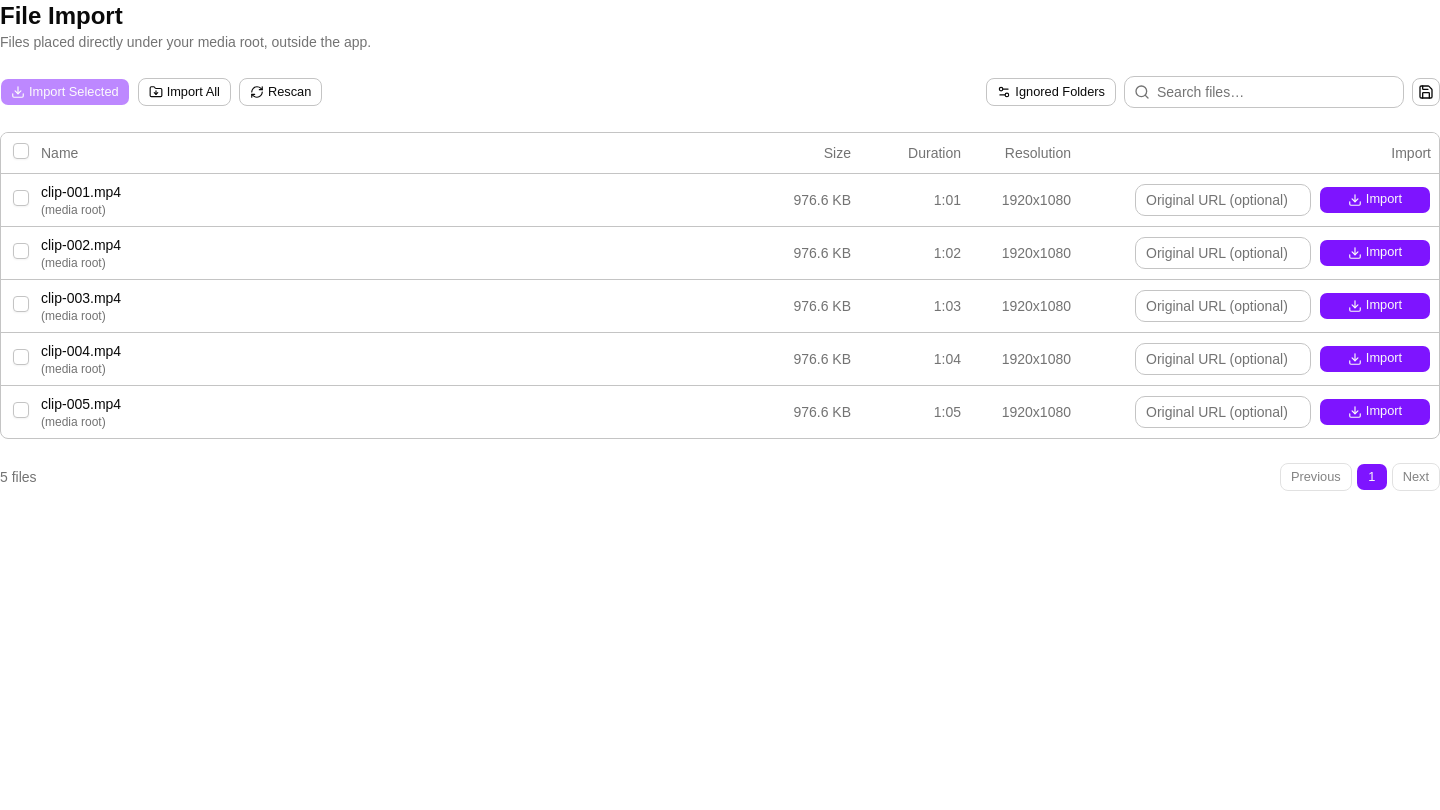
ImportPage table › importing › Import Selected asks first, shows the count and imports only the selected files
The image size is (1440, 810).
Expected: the text "clip-001.mp4" is shown, [41,184,121,200]
Press the mouse on the text "clip-002.mp4" at x=720, y=252, box [1,226,1439,279]
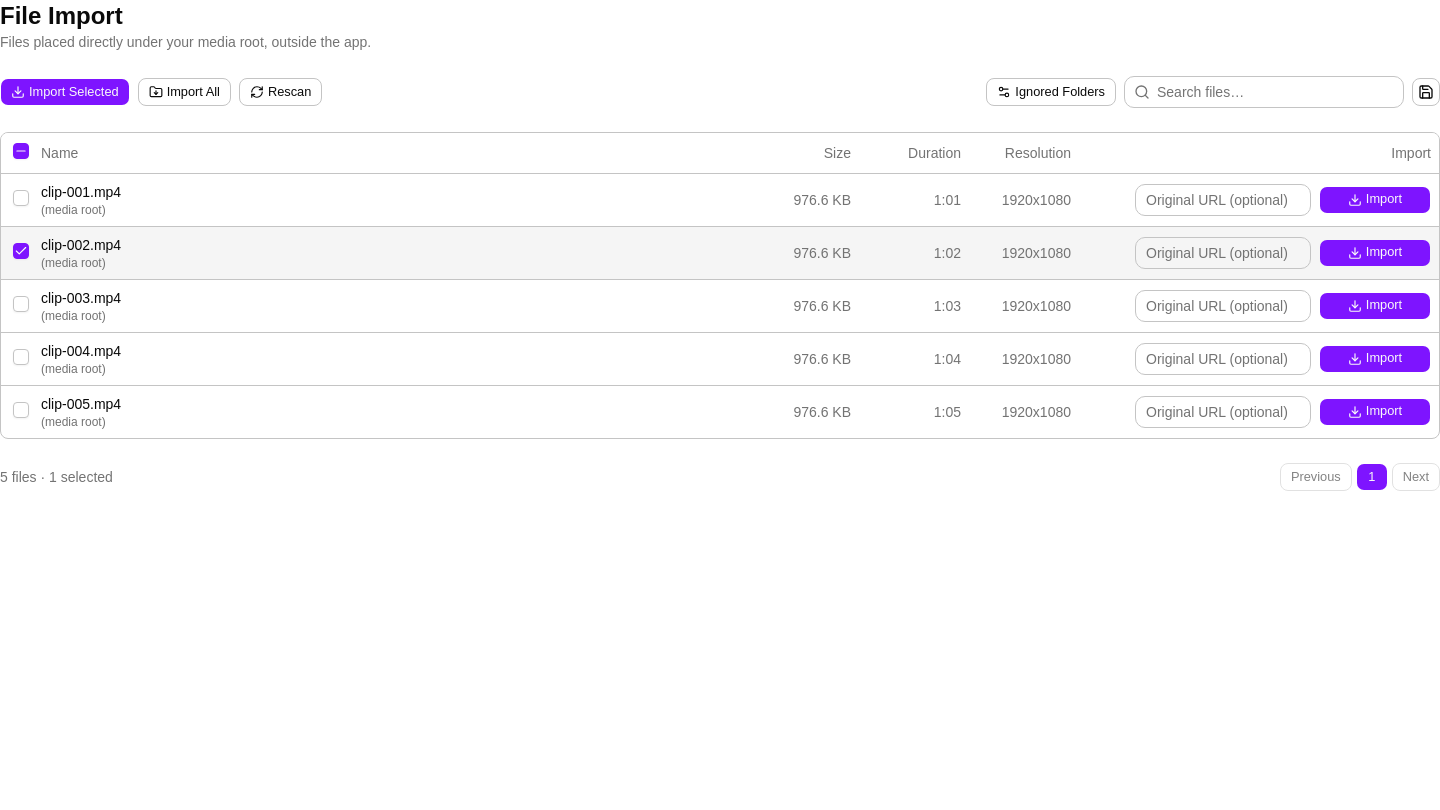
Press the mouse on the text "clip-004.mp4" at x=720, y=358, box [1,332,1439,385]
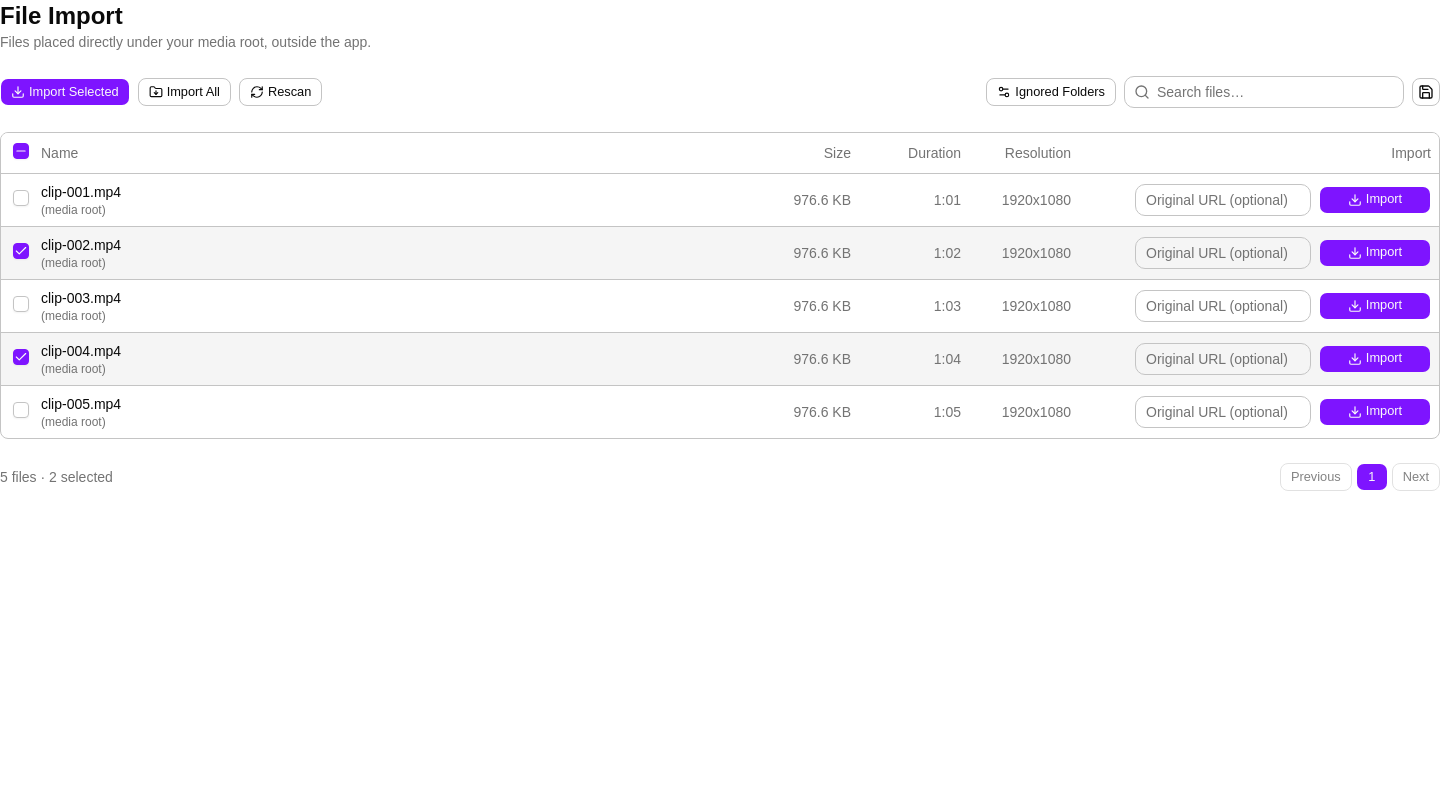
Click the button "Import Selected". click: x=65, y=92
box: [0,78,130,106]
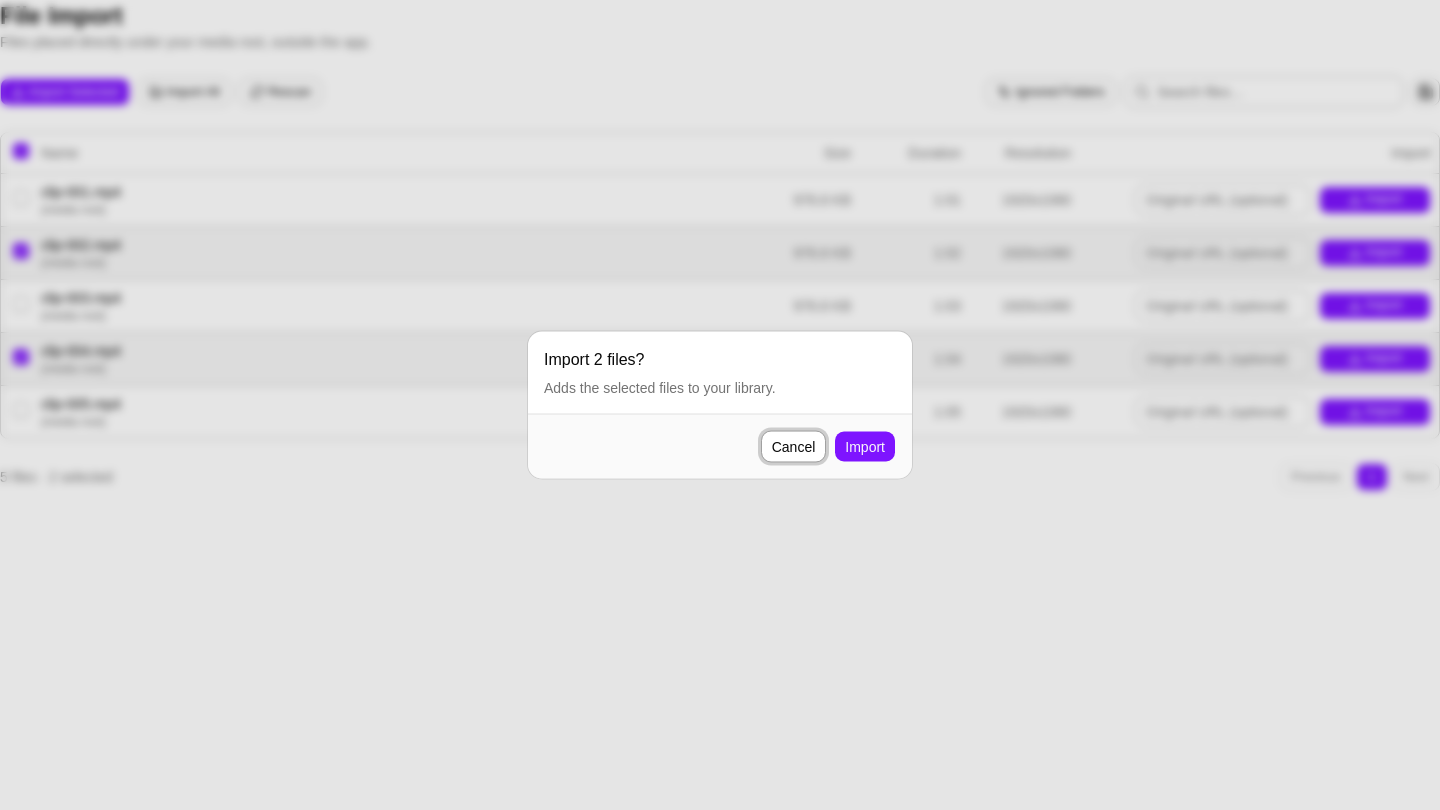
Now the heading "Import 2 files?" is shown, box [544,348,644,372]
Now the text "Adds the selected files to your library." is shown, box [544,378,776,398]
Click the button "Import". click: x=865, y=446
box: [834,430,896,462]
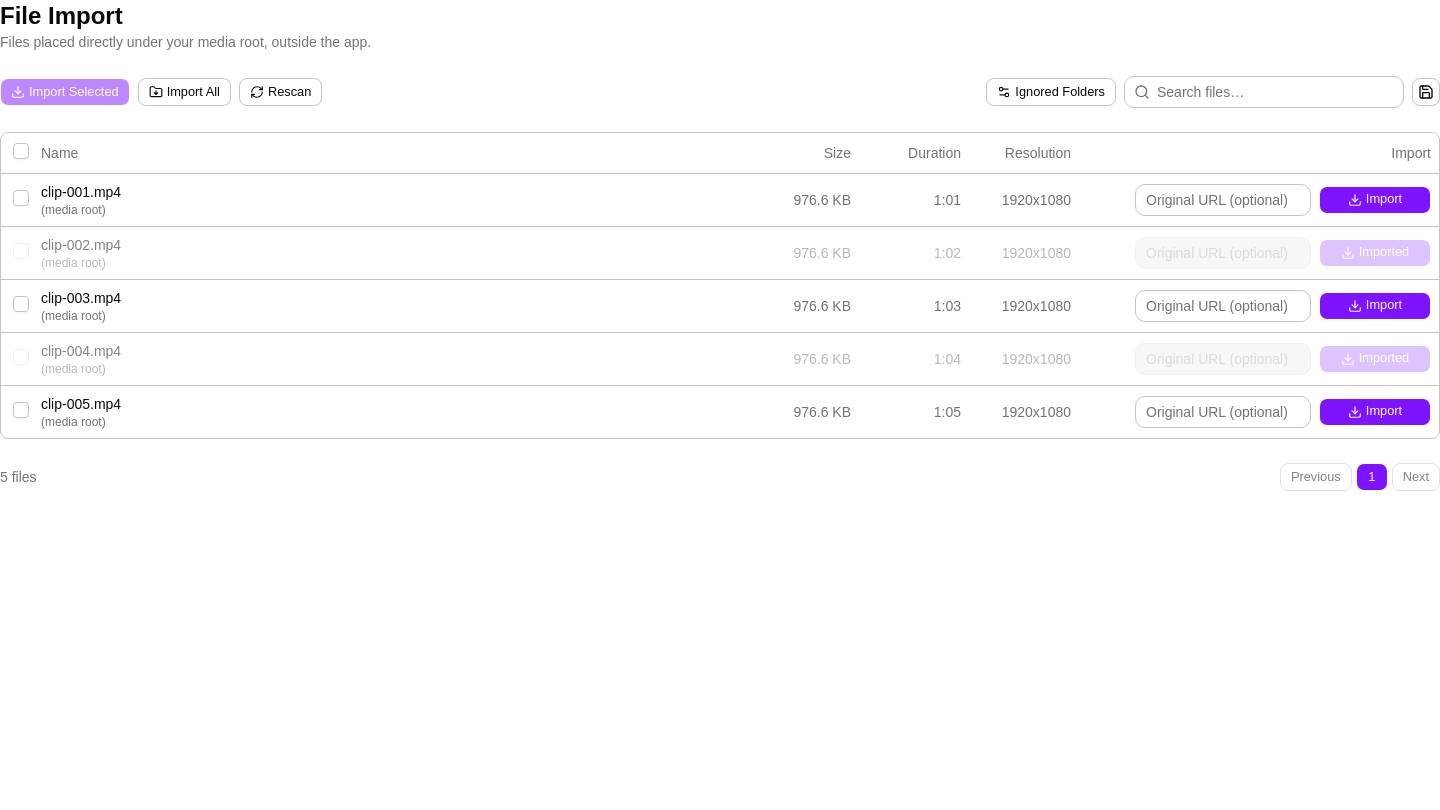
Now the button "Imported" in the row of "clip-002.mp4" is shown, box [1319,238,1431,266]
Now the button "Imported" in the row of "clip-004.mp4" is shown, box [1319,344,1431,372]
Now the button "Import Selected" is disabled, box [0,78,130,106]
